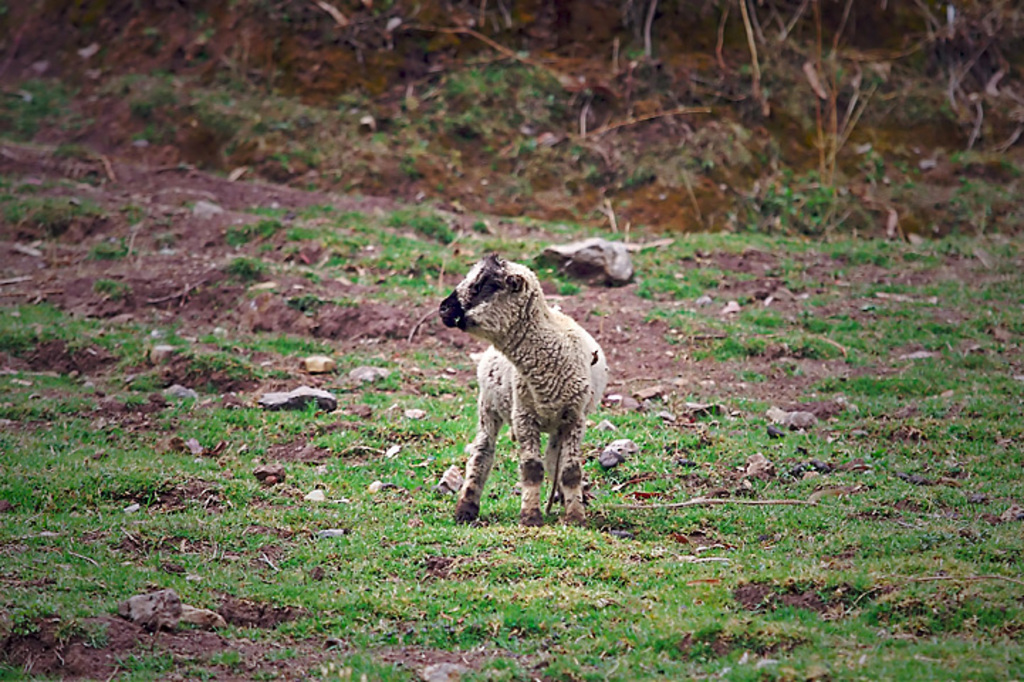sheep: (431, 260, 612, 514)
